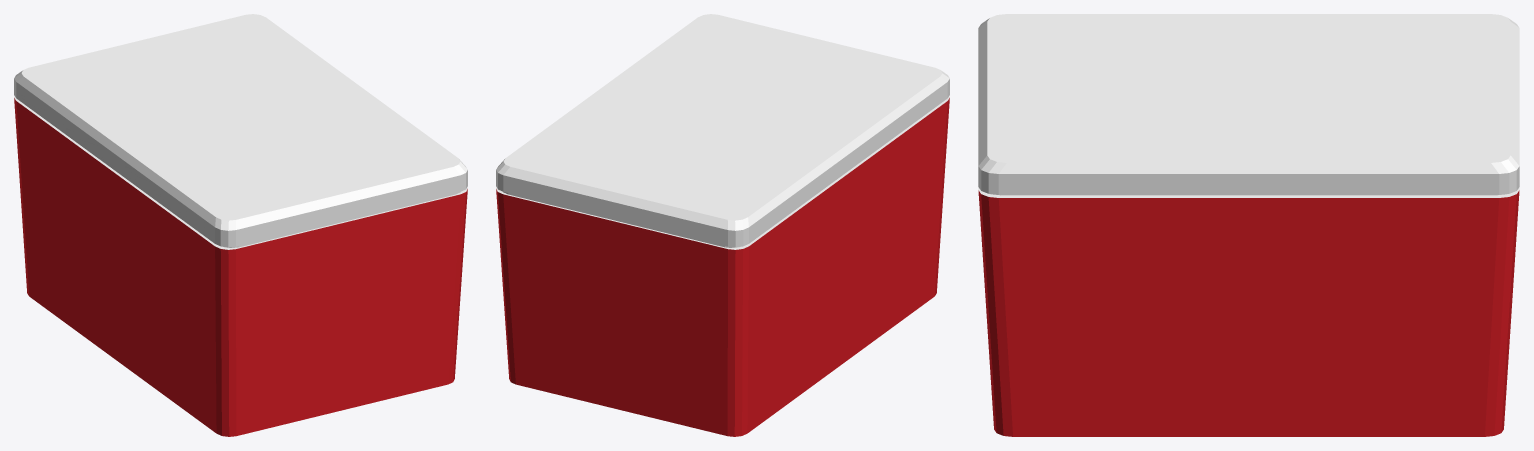
Rendered from cooler.fbx.
The picture shows the model from 3 angles, left to right: view 1: azimuth 30°, elevation 25°; view 2: azimuth 150°, elevation 25°; view 3: azimuth 270°, elevation 25°; orthographic projection. The views are drawn at different scales.
Parts seen in each view (by area): view 1: Cube; view 2: Cube; view 3: Cube.
Part boxes in pixels (x1,y1,x2,y2): Cube: (14,14,467,436); Cube: (496,14,949,436); Cube: (978,14,1519,436).
Size of the model in its own units: 151 by 126 by 225.
